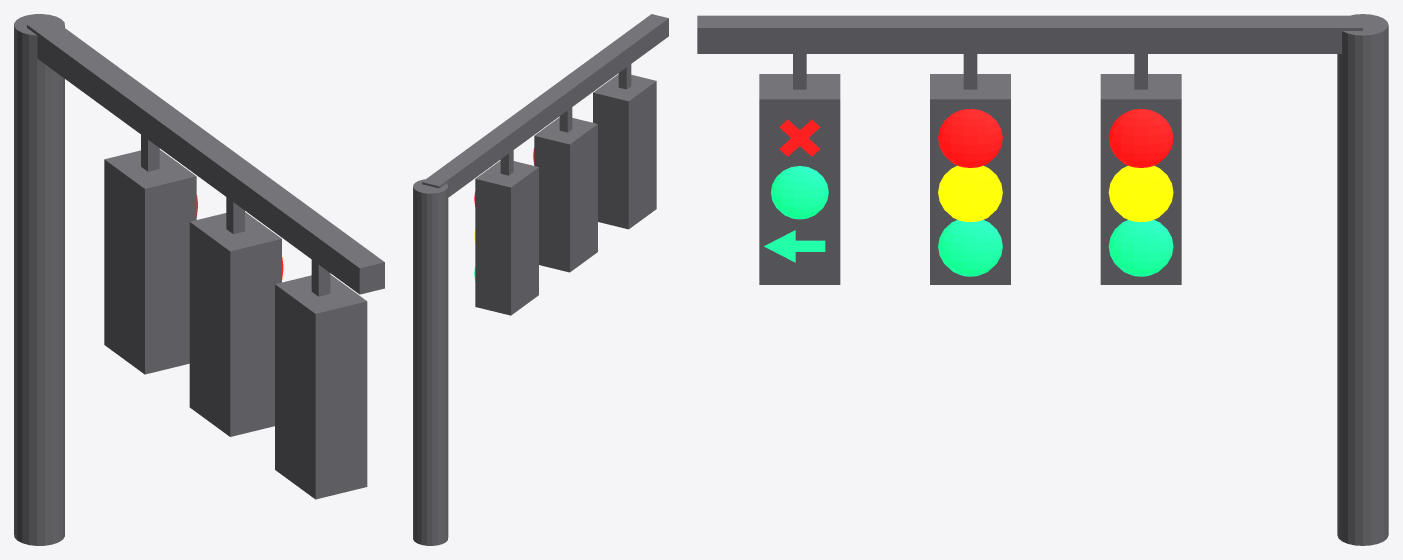
File: traffic_light_rrl.fbx
3 views of the same model, side by side, from view 1: azimuth 30°, elevation 25°; view 2: azimuth 150°, elevation 25°; view 3: azimuth 270°, elevation 25° (orthographic). The views are drawn at different scales.
Visible parts, largest first — view 1: Semaforo_cuerpo; view 2: Semaforo_cuerpo; view 3: Semaforo_cuerpo, lamp_red.001, lamp_red, lamp_green.001, lamp_green, lamp_yellow, lamp_yellow.001, lamp_green.002, lamp_green_arr.
Boxes of the visible parts, x1,y1,x2,y2 form: Semaforo_cuerpo: [14, 14, 384, 545]; Semaforo_cuerpo: [413, 14, 668, 545]; Semaforo_cuerpo: [697, 14, 1388, 545]; lamp_red.001: [938, 108, 1002, 167]; lamp_red: [1108, 108, 1173, 167]; lamp_green.001: [938, 220, 1002, 276]; lamp_green: [1108, 220, 1173, 276]; lamp_yellow: [1108, 165, 1173, 221]; lamp_yellow.001: [938, 165, 1002, 221]; lamp_green.002: [771, 166, 828, 219]; lamp_green_arr: [764, 230, 825, 262].
Bounding box in the file's own units: 89.52 × 664 × 810.
